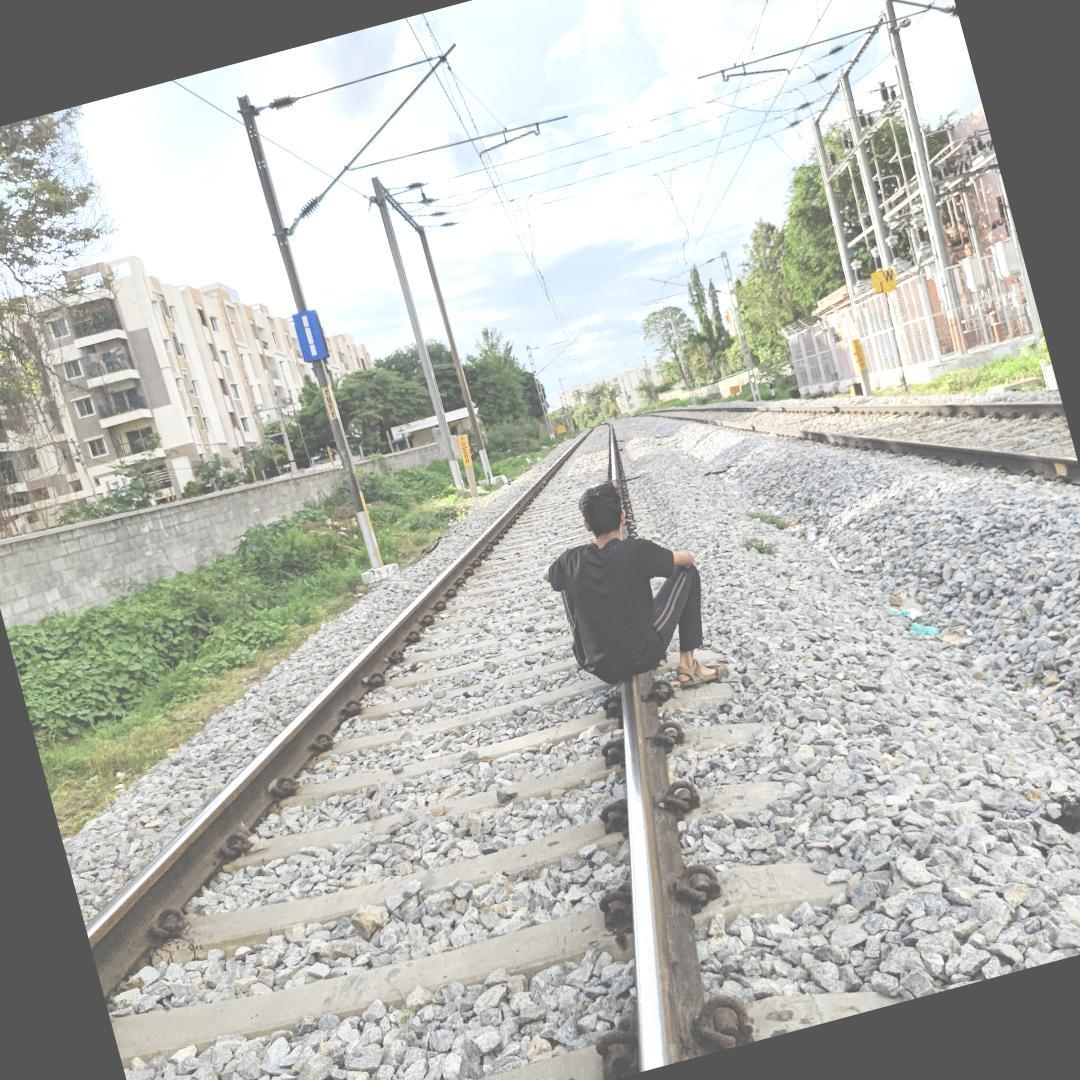sitting: (514, 453, 744, 726)
